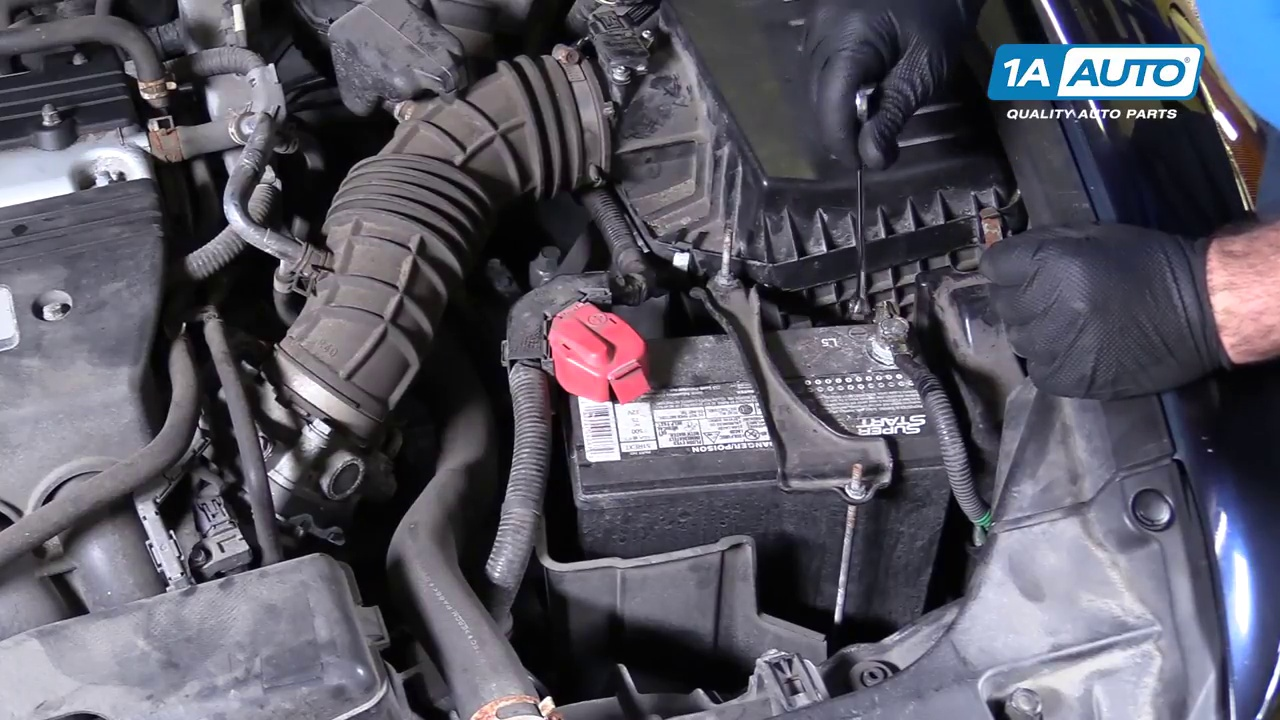battery: (553, 303, 968, 500)
neg_connected: (854, 283, 938, 385)
pos_connected: (543, 290, 659, 409)
